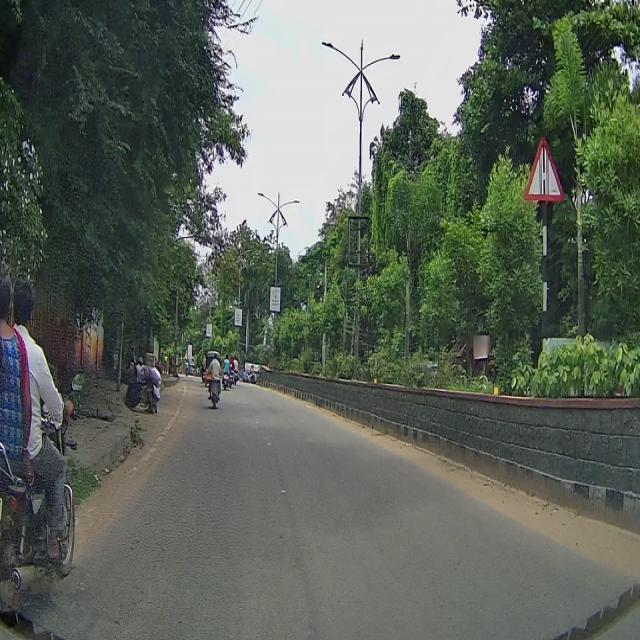gap-in-median: (525, 133, 562, 208)
